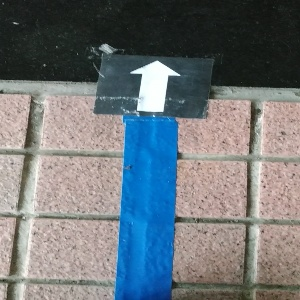straight: (95, 53, 209, 117)
